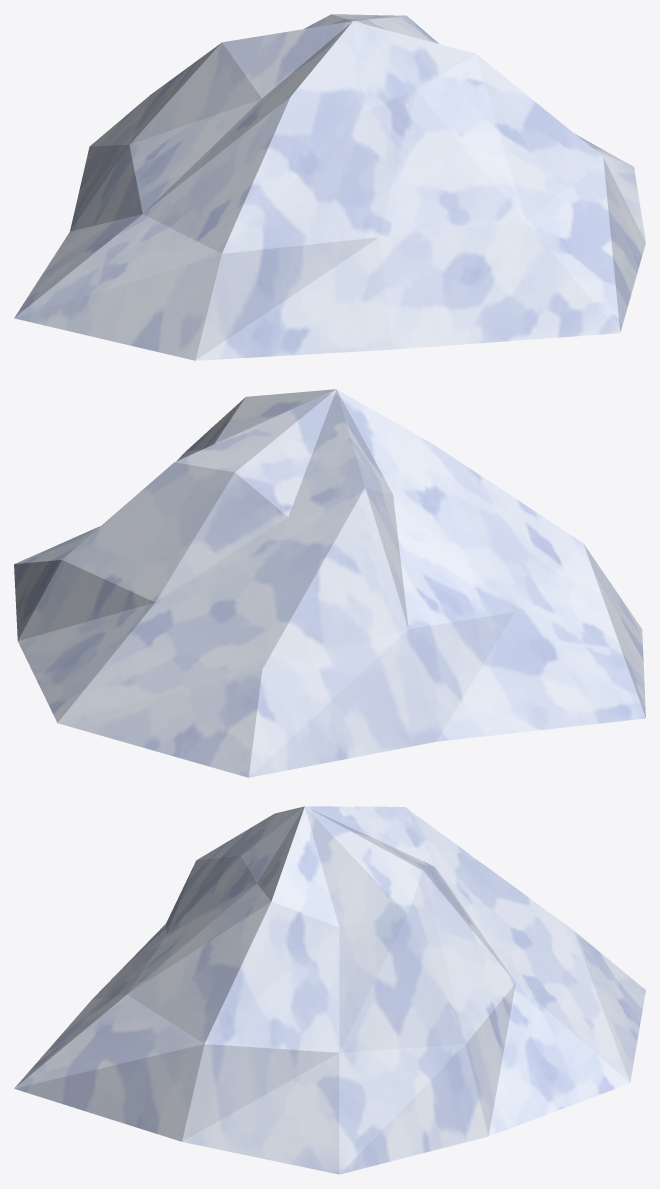
The model's file is mound_irregular.glb.
3 views of the same model, one above another, from view 1: azimuth 30°, elevation 25°; view 2: azimuth 150°, elevation 25°; view 3: azimuth 270°, elevation 25° (orthographic). The views are drawn at different scales.
Visible parts, largest first — view 1: winter_mound_irregular; view 2: winter_mound_irregular; view 3: winter_mound_irregular.
Part boxes in pixels (left/top/right/bottom): winter_mound_irregular: left=14, top=14, right=645, bottom=360; winter_mound_irregular: left=14, top=389, right=645, bottom=777; winter_mound_irregular: left=14, top=806, right=645, bottom=1174.
Bounding box in the file's own units: 2.1 × 0.75 × 1.9.
1 material, 1 textured.
